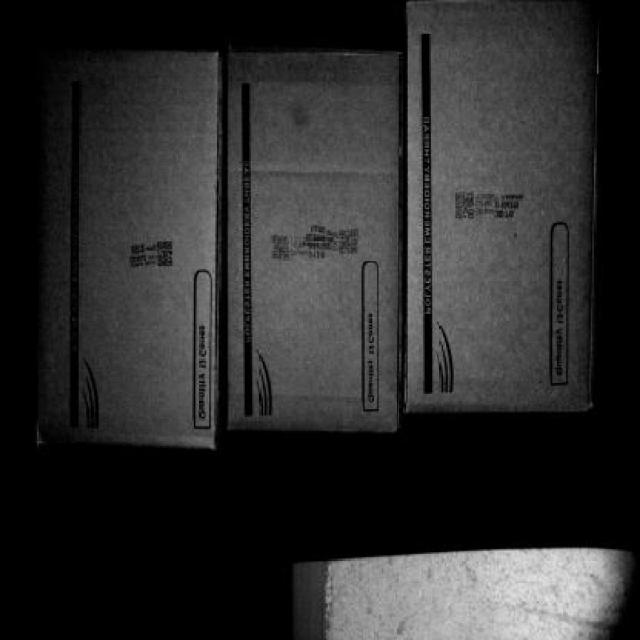cardboxes: (407, 4, 598, 410), (227, 49, 398, 431), (56, 60, 215, 446)
